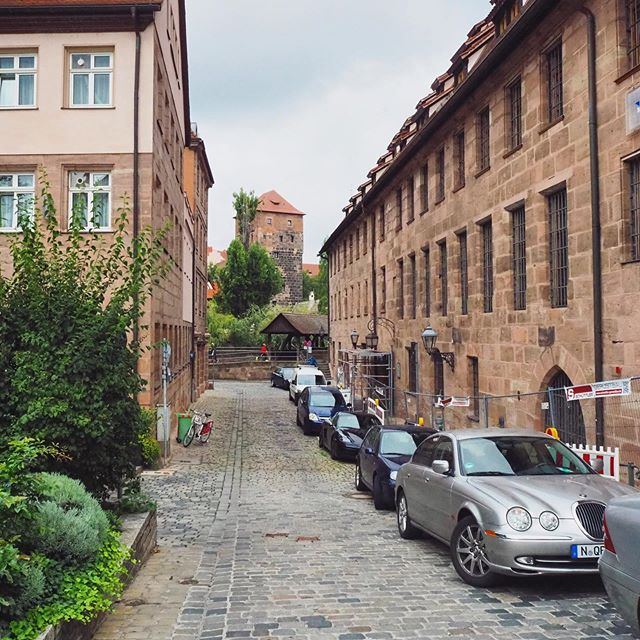building: (331, 1, 640, 418), (1, 1, 194, 424), (235, 195, 314, 306)
car: (404, 424, 633, 598), (342, 425, 428, 520)
sky: (203, 1, 446, 215)
street: (129, 376, 371, 640)
tree: (1, 235, 154, 620), (204, 240, 280, 323)
